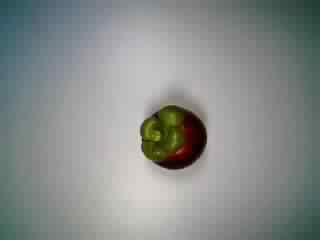mangosteen: (134, 101, 212, 172)
